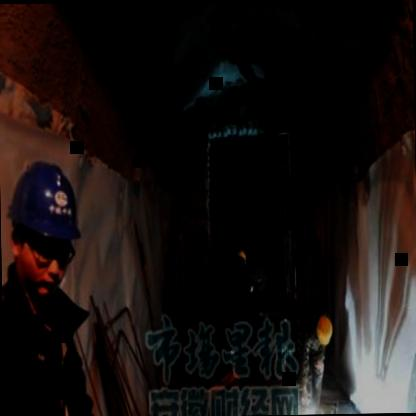helmet: (5, 148, 86, 301), (312, 316, 334, 348), (236, 248, 247, 268)
